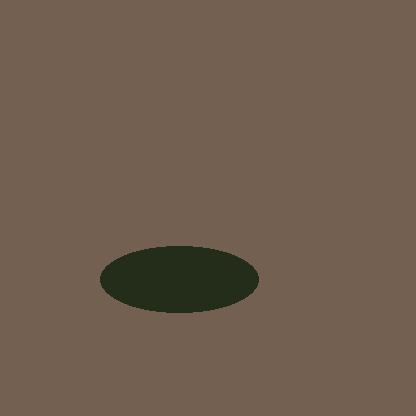pothole: (100, 246, 258, 312)
